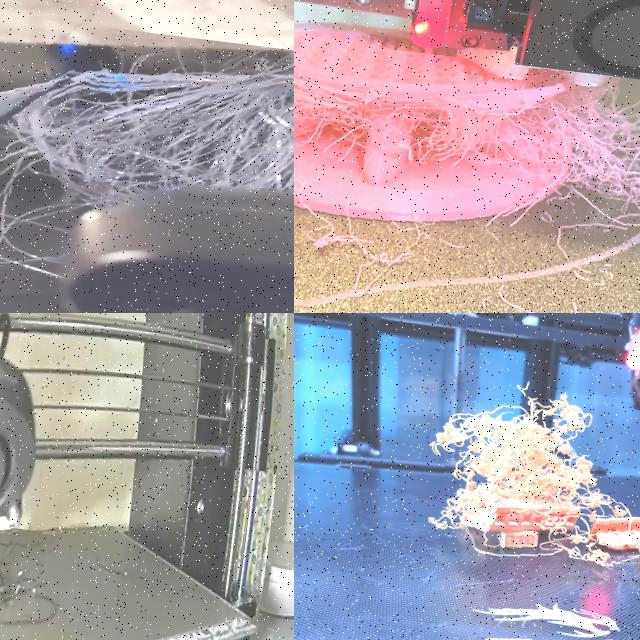spaghetti: (294, 14, 640, 313), (0, 15, 294, 240), (422, 386, 640, 595), (0, 520, 41, 622)
